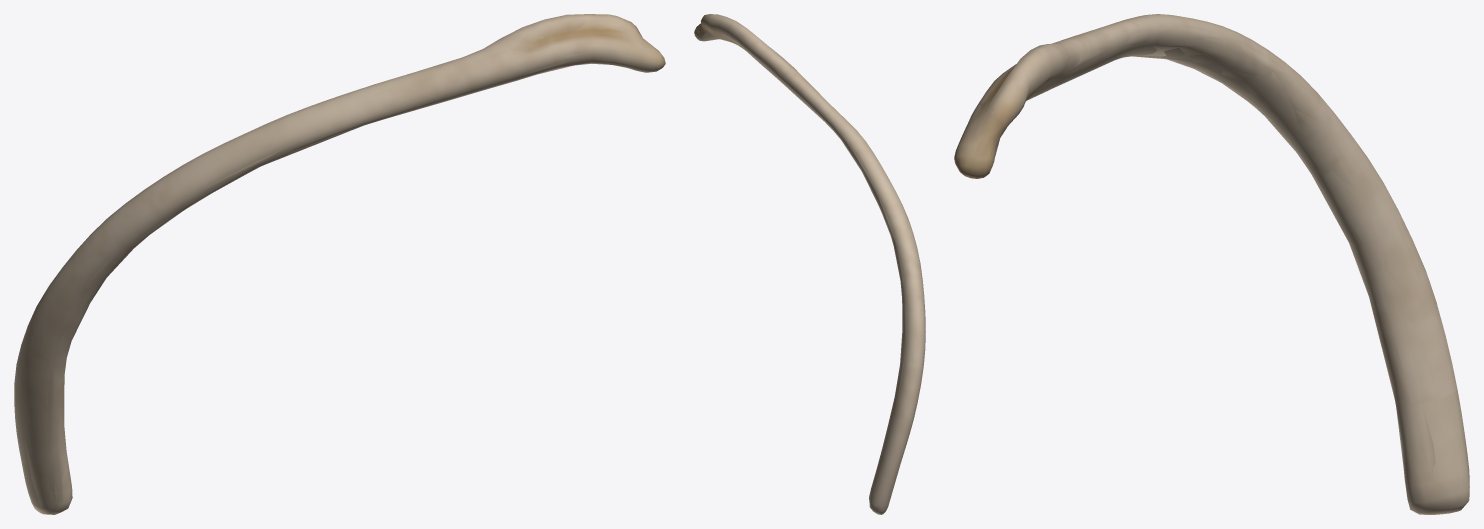
The model's file is Rib R17.fbx.
The picture shows the model from 3 angles, left to right: view 1: azimuth 30°, elevation 25°; view 2: azimuth 150°, elevation 25°; view 3: azimuth 270°, elevation 25°; orthographic projection. The views are drawn at different scales.
Parts seen in each view (by area): view 1: Rib R17, Rib R17 low; view 2: Rib R17, Rib R17 low; view 3: Rib R17, Rib R17 low.
Boxes of the visible parts, x1,y1,x2,y2 form: Rib R17: (14,14,665,514); Rib R17 low: (16,14,664,514); Rib R17: (694,14,925,514); Rib R17 low: (694,14,923,514); Rib R17: (954,14,1469,514); Rib R17 low: (954,14,1468,512).
Bounding box in the file's own units: 26.15 × 26.81 × 17.89.
Materials: 1 (1 with a texture image).
